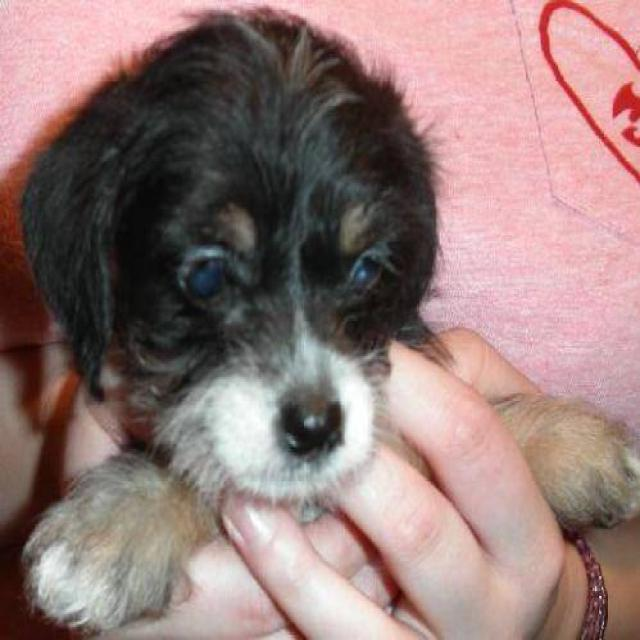dogs: (46, 14, 439, 636)
